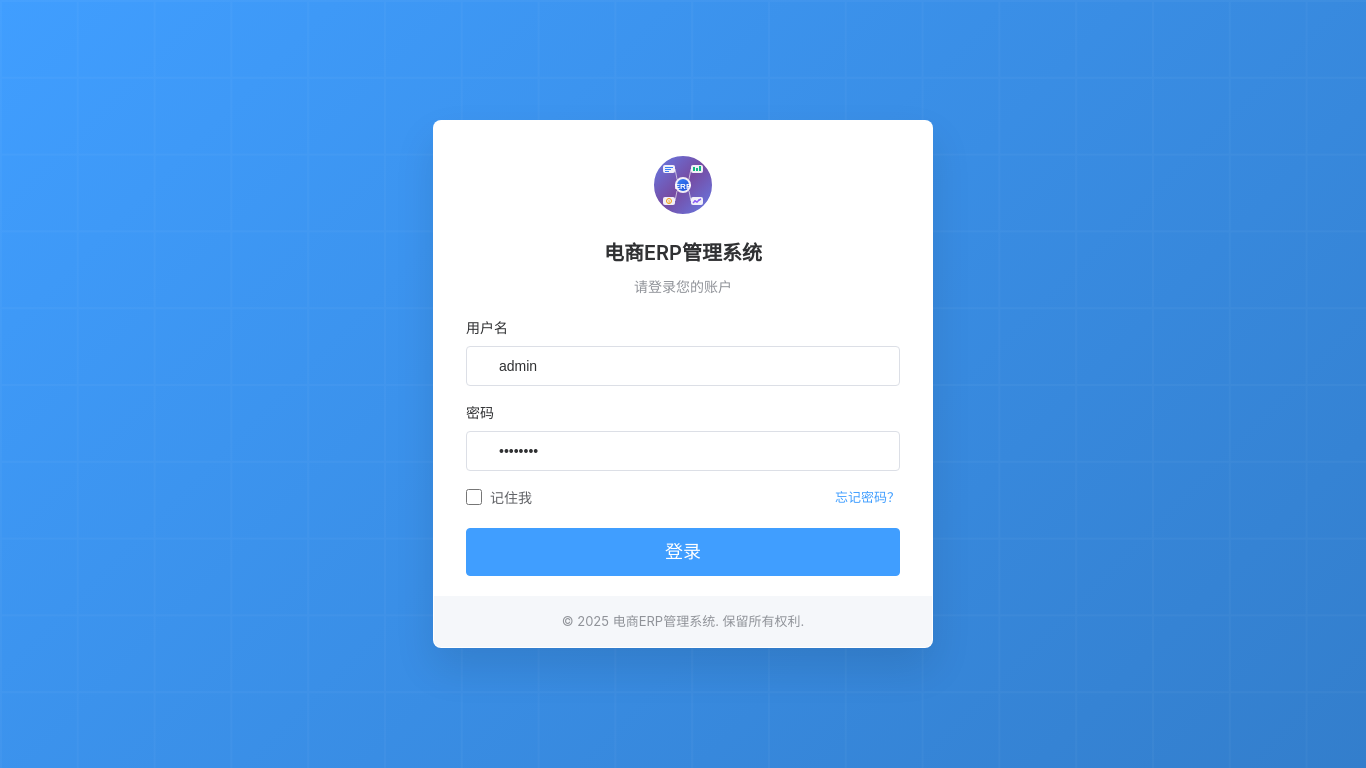
Test case: LoginView › 应该验证忘记密码邮箱格式
// 显示忘记密码对话框
Click the link with class "forgot-password": x=868, y=497 [835, 488, 900, 507]
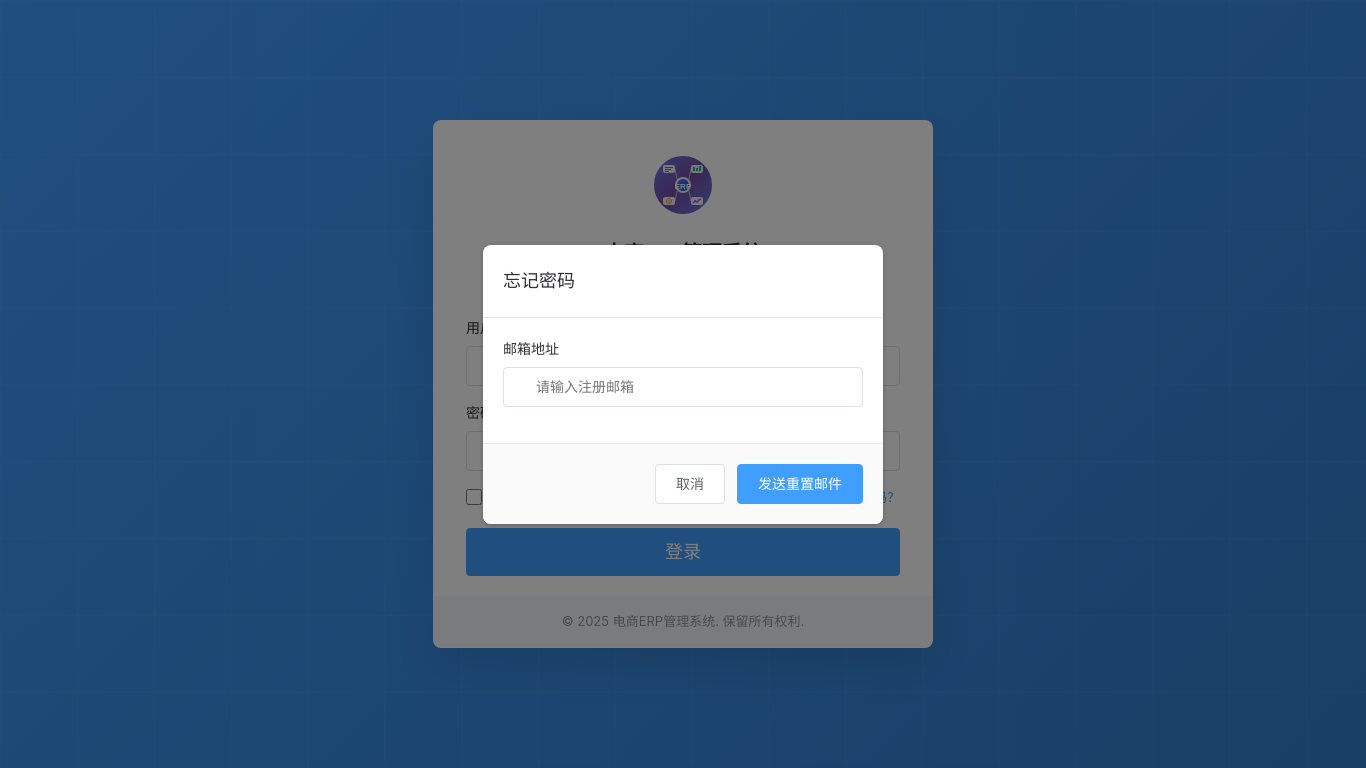
In the field named "email": x=683, y=386 [503, 366, 863, 406], type "invalid-email"
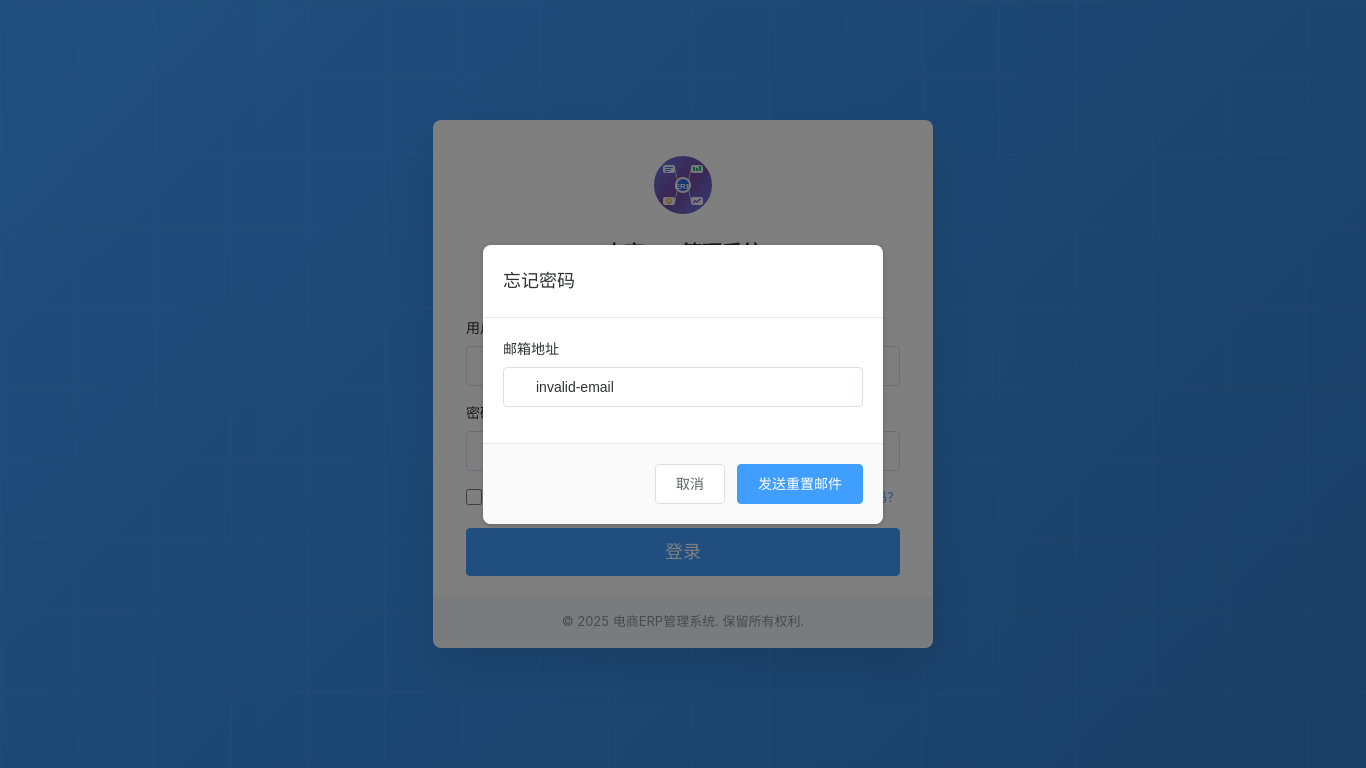
Click the button "发送重置邮件": x=800, y=484 [737, 464, 863, 504]
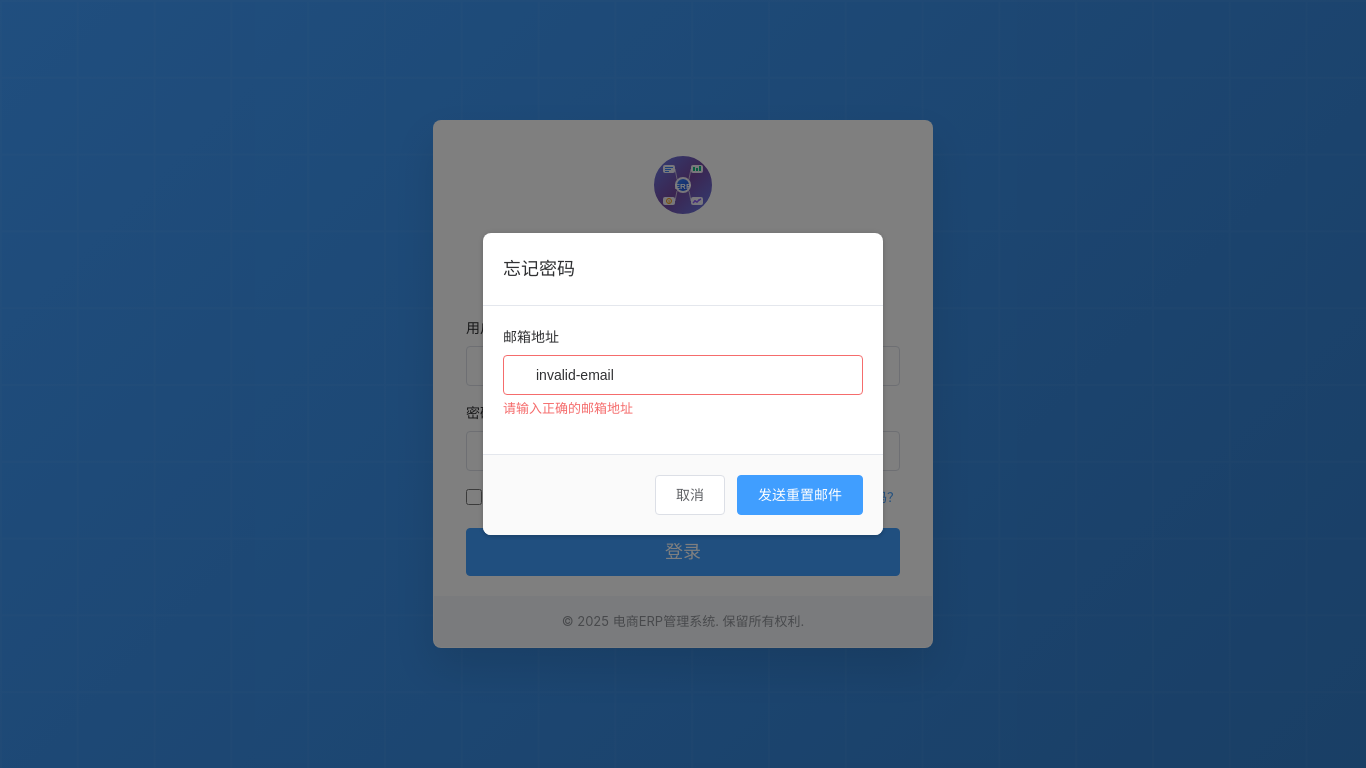
Check: the text with class "show" reads "请输入正确的邮箱地址", box [503, 400, 633, 416]
